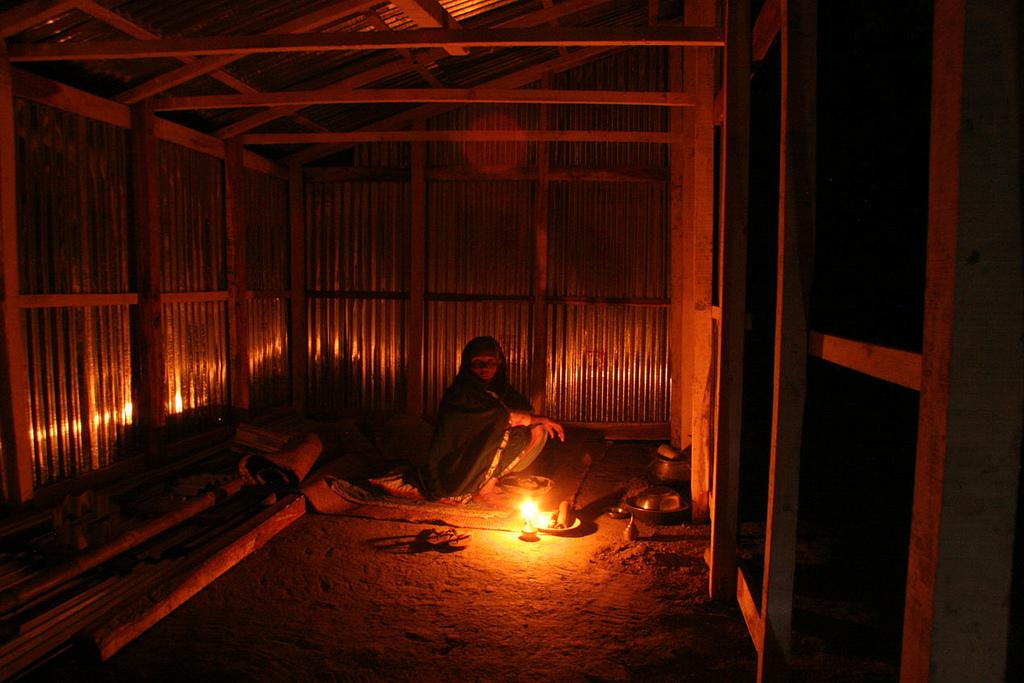fire: (517, 497, 558, 540)
